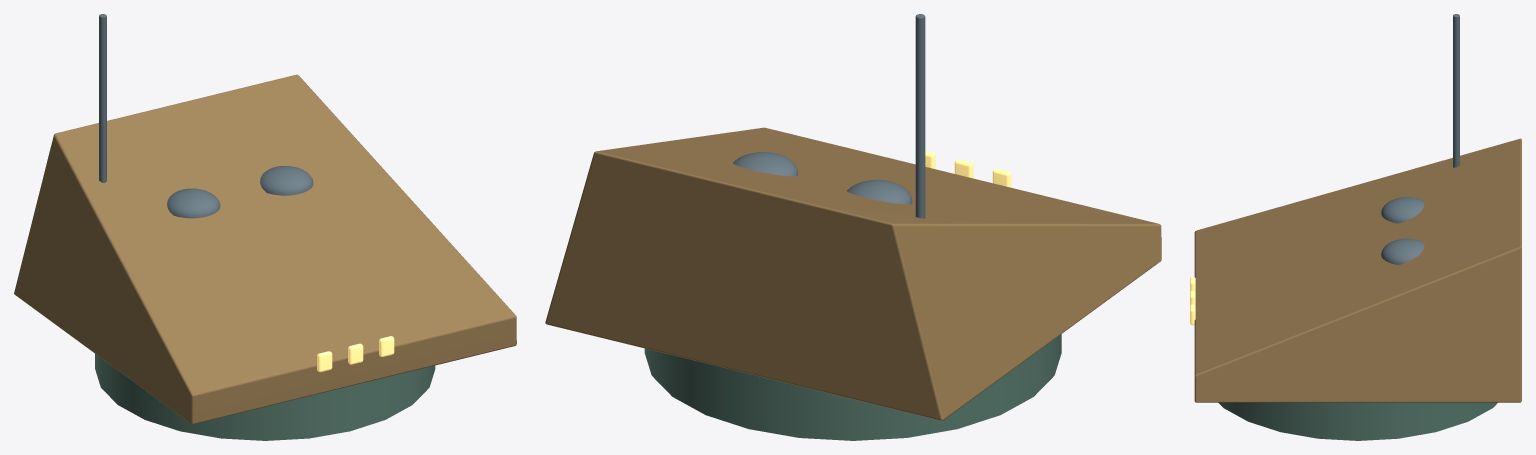
3 views of the same model, side by side, from view 1: azimuth 30°, elevation 25°; view 2: azimuth 150°, elevation 25°; view 3: azimuth 270°, elevation 25° (orthographic). The views are drawn at different scales.
Parts seen in each view (by area): view 1: Sloping industrial housing, Foundation drum, Aerial stem, Housing top service hatch, Housing top service hatch.001; view 2: Sloping industrial housing, Foundation drum, Aerial stem, Housing top service hatch, Housing top service hatch.001; view 3: Sloping industrial housing, Foundation drum, Aerial stem, Housing top service hatch.001, Housing top service hatch.
Boxes of the visible parts, bbox=[...] form: Sloping industrial housing: bbox=[14, 74, 516, 424]; Foundation drum: bbox=[95, 354, 435, 440]; Aerial stem: bbox=[99, 14, 106, 182]; Housing top service hatch: bbox=[167, 188, 220, 218]; Housing top service hatch.001: bbox=[260, 166, 313, 195]; Sloping industrial housing: bbox=[545, 127, 1161, 420]; Foundation drum: bbox=[644, 334, 1061, 440]; Aerial stem: bbox=[915, 14, 925, 218]; Housing top service hatch: bbox=[847, 179, 912, 204]; Housing top service hatch.001: bbox=[733, 152, 798, 176]; Sloping industrial housing: bbox=[1194, 138, 1521, 402]; Foundation drum: bbox=[1218, 402, 1497, 440]; Aerial stem: bbox=[1453, 14, 1459, 167]; Housing top service hatch.001: bbox=[1381, 238, 1424, 264]; Housing top service hatch: bbox=[1381, 197, 1424, 223].
Bounding box in the file's own units: 2.1 × 2.1 × 2.03.
